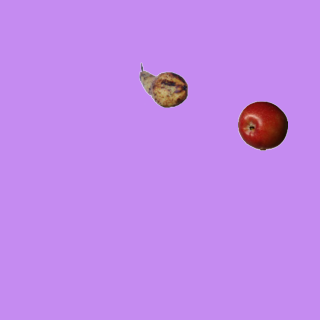Apple Braeburn: (237, 100, 287, 150)
Pear Abate: (138, 60, 188, 110)
